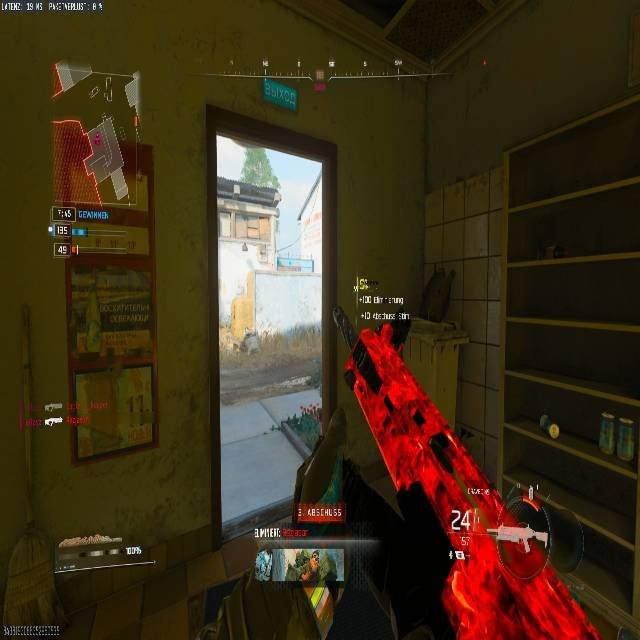player: (292, 549, 340, 629), (239, 331, 257, 360)
